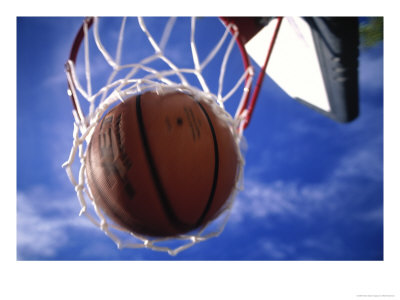basketball: (86, 93, 237, 237)
